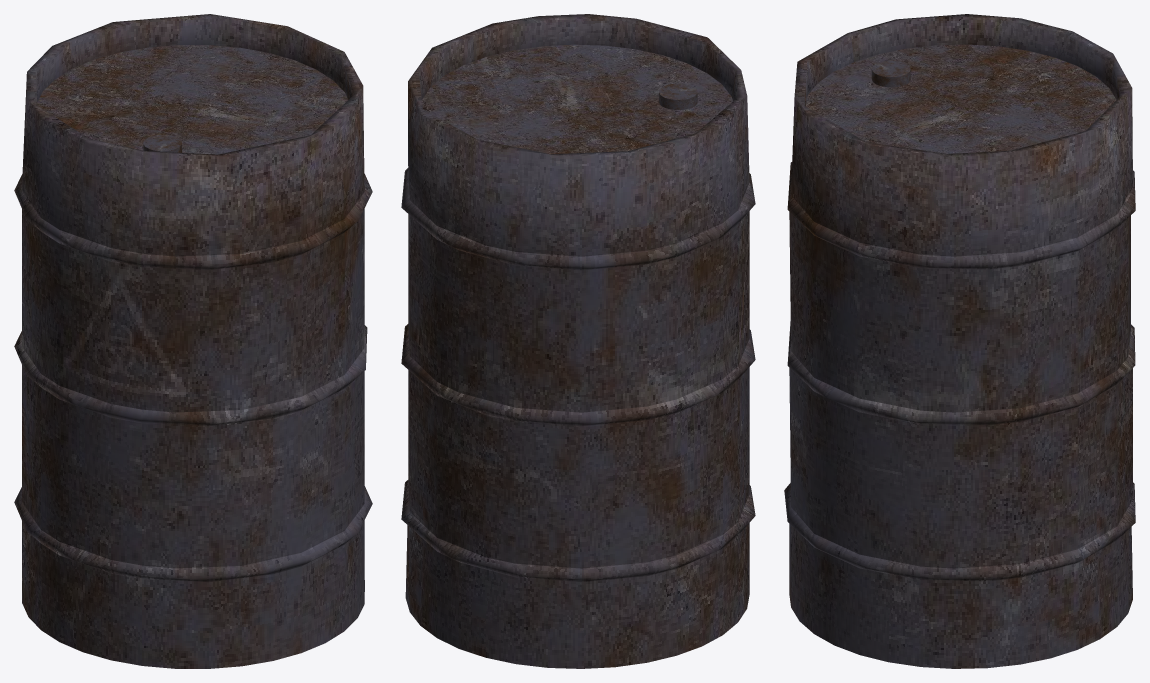
Rendered from bio_drum.glb.
3 views of the same model, side by side, from view 1: azimuth 30°, elevation 25°; view 2: azimuth 150°, elevation 25°; view 3: azimuth 270°, elevation 25° (orthographic).
Visible parts, largest first — view 1: bio_drum; view 2: bio_drum; view 3: bio_drum.
Part boxes in pixels (left/top/right/bottom): bio_drum: left=14, top=14, right=372, bottom=668; bio_drum: left=401, top=14, right=755, bottom=668; bio_drum: left=784, top=14, right=1135, bottom=668.
Bounding box in the file's own units: 2.06 × 3.28 × 2.04.
1 material, 1 textured.
